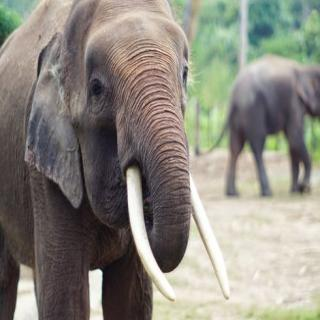Elephant: (0, 0, 235, 317)
